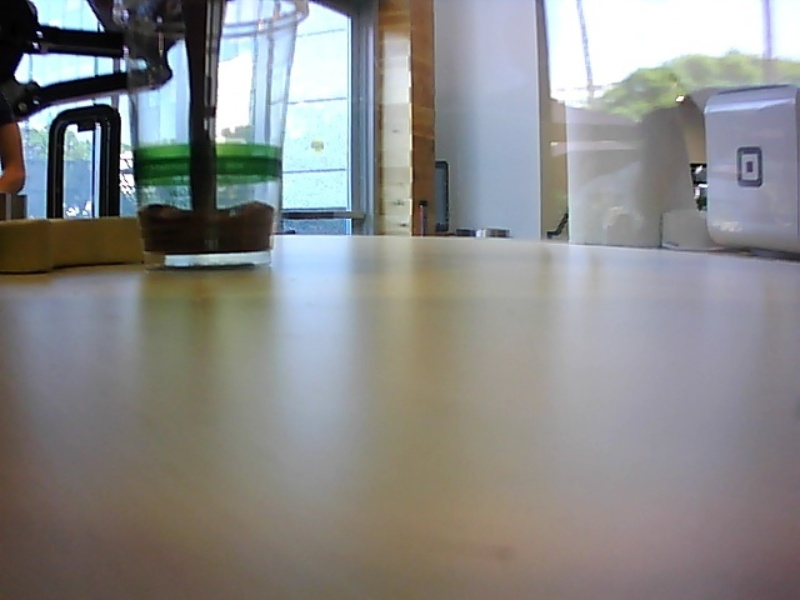cup: (109, 1, 310, 271)
limit: (137, 192, 280, 220)
